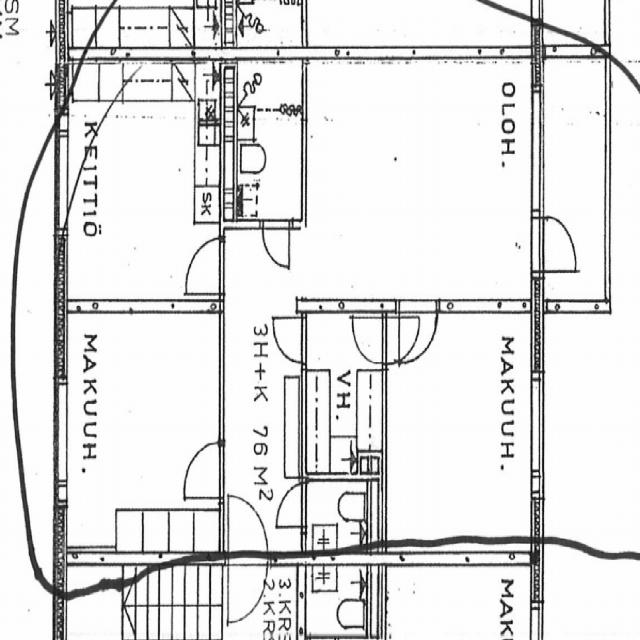door: (229, 493, 267, 564), (229, 552, 267, 622), (531, 217, 579, 271), (399, 300, 437, 368), (182, 442, 224, 498), (183, 239, 224, 293), (382, 317, 417, 363), (272, 317, 307, 362), (352, 317, 386, 363), (273, 483, 307, 527), (262, 220, 288, 266)
